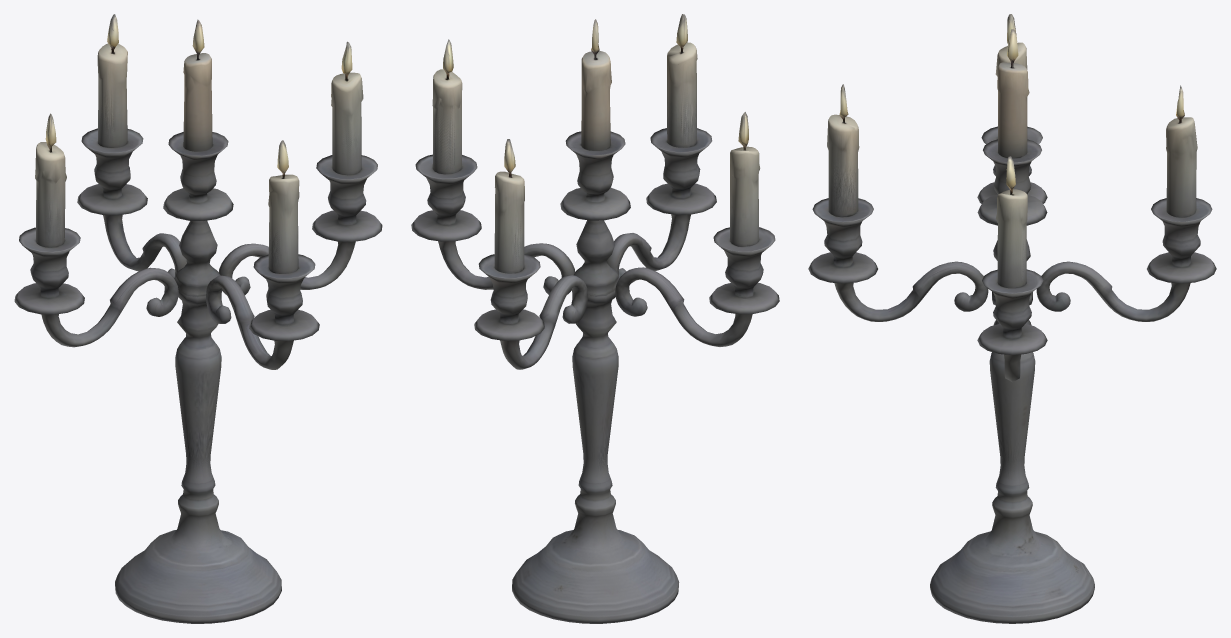
File: SM_Env_BaskervilleSilverCandelabra.fbx
3 renders of one model, left to right at view 1: azimuth 30°, elevation 25°; view 2: azimuth 150°, elevation 25°; view 3: azimuth 270°, elevation 25°, orthographic.
Visible parts, largest first — view 1: SM_Env_BaskervilleSilverCandelabra; view 2: SM_Env_BaskervilleSilverCandelabra; view 3: SM_Env_BaskervilleSilverCandelabra.
Boxes of the visible parts, x1,y1,x2,y2 form: SM_Env_BaskervilleSilverCandelabra: (14, 14, 382, 623); SM_Env_BaskervilleSilverCandelabra: (411, 14, 779, 623); SM_Env_BaskervilleSilverCandelabra: (808, 14, 1216, 623).
Bounding box in the file's own units: 11.9 × 11.9 × 18.
1 material, 1 textured.
